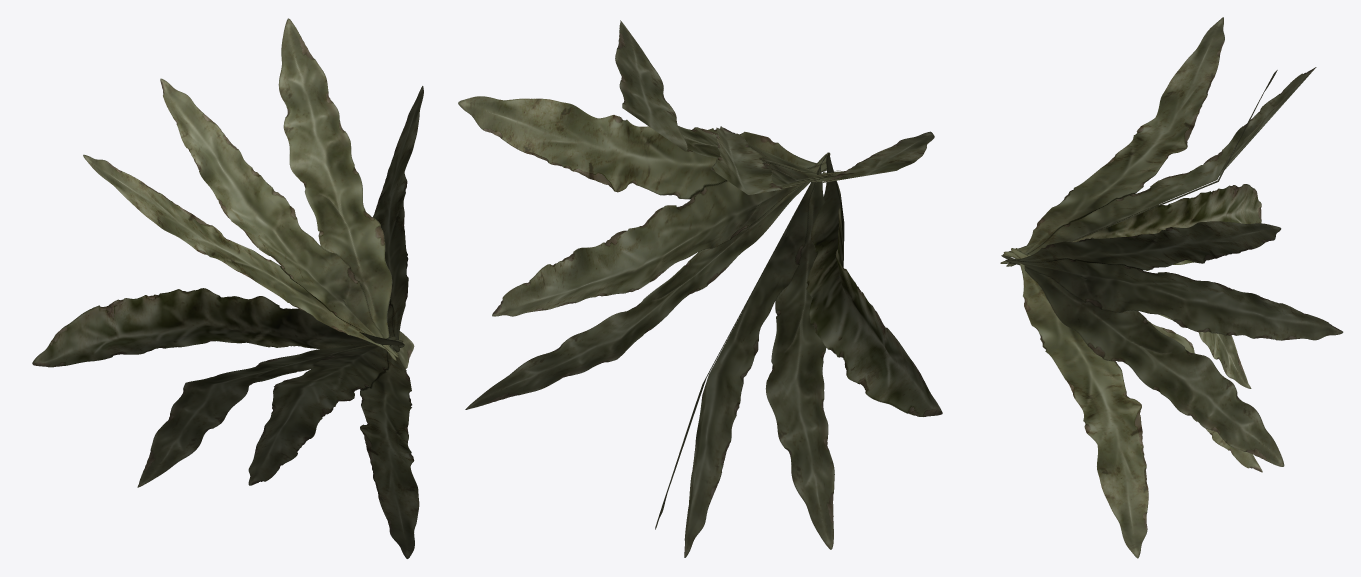
File: TI_Weed_03_c_A.fbx
The picture shows the model from 3 angles, left to right: view 1: azimuth 30°, elevation 25°; view 2: azimuth 150°, elevation 25°; view 3: azimuth 270°, elevation 25°; orthographic projection. The views are drawn at different scales.
Parts seen in each view (by area): view 1: TI_Weed_03_c_A; view 2: TI_Weed_03_c_A; view 3: TI_Weed_03_c_A.
Boxes of the visible parts, x1,y1,x2,y2 form: TI_Weed_03_c_A: (32, 18, 423, 558); TI_Weed_03_c_A: (458, 20, 942, 557); TI_Weed_03_c_A: (1000, 17, 1343, 558).
Size of the model in its own units: 1.16 by 1.33 by 0.922.
